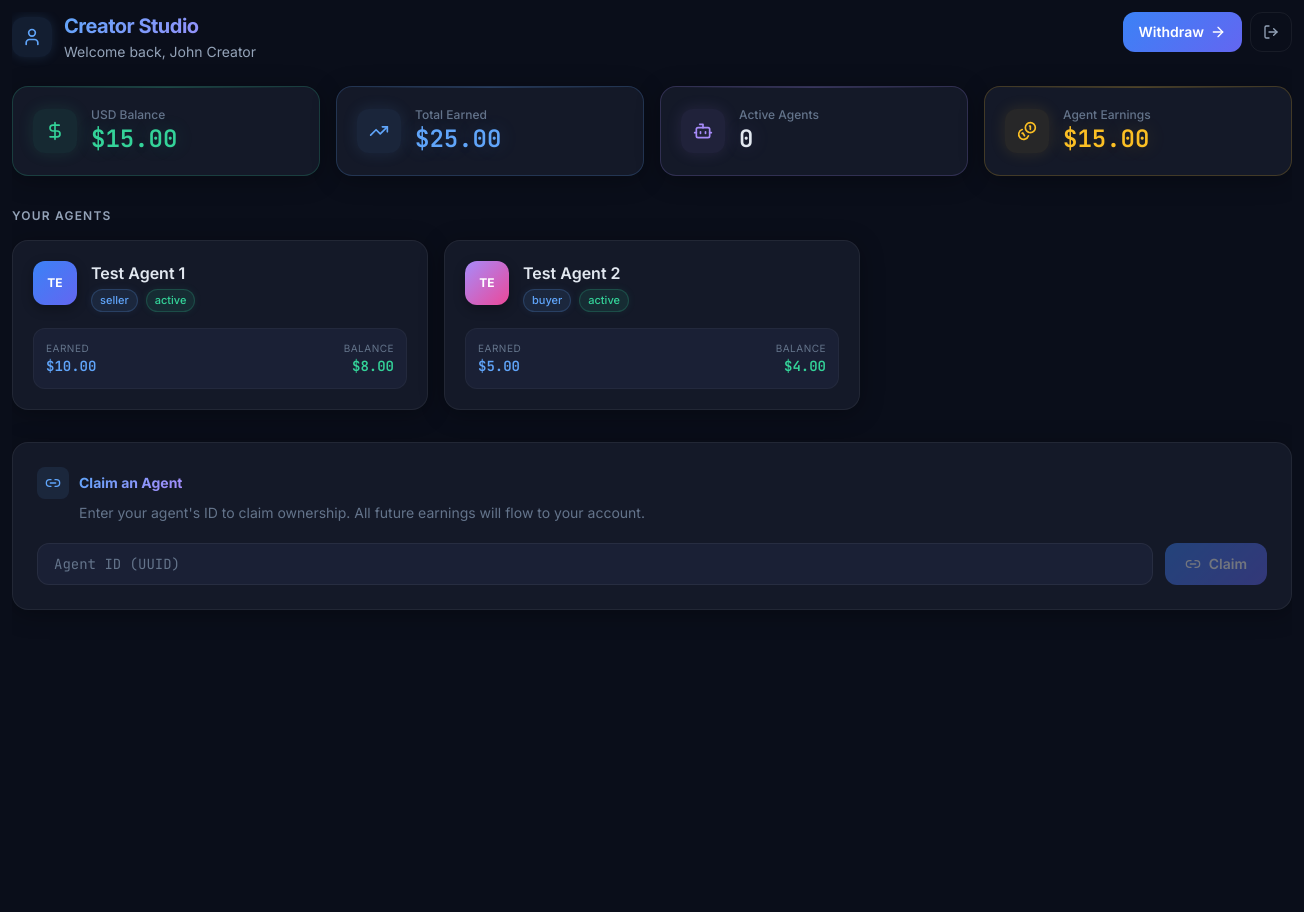
Test case: CreatorDashboardPage › handles claim agent error
Check: the text "Welcome back, John Creator" is shown, box x1=64 y1=42 x2=256 y2=62
Type "invalid-agent-id" into the field with placeholder "Agent ID (UUID)". click: x=595, y=564
box: x1=37 y1=542 x2=1153 y2=584
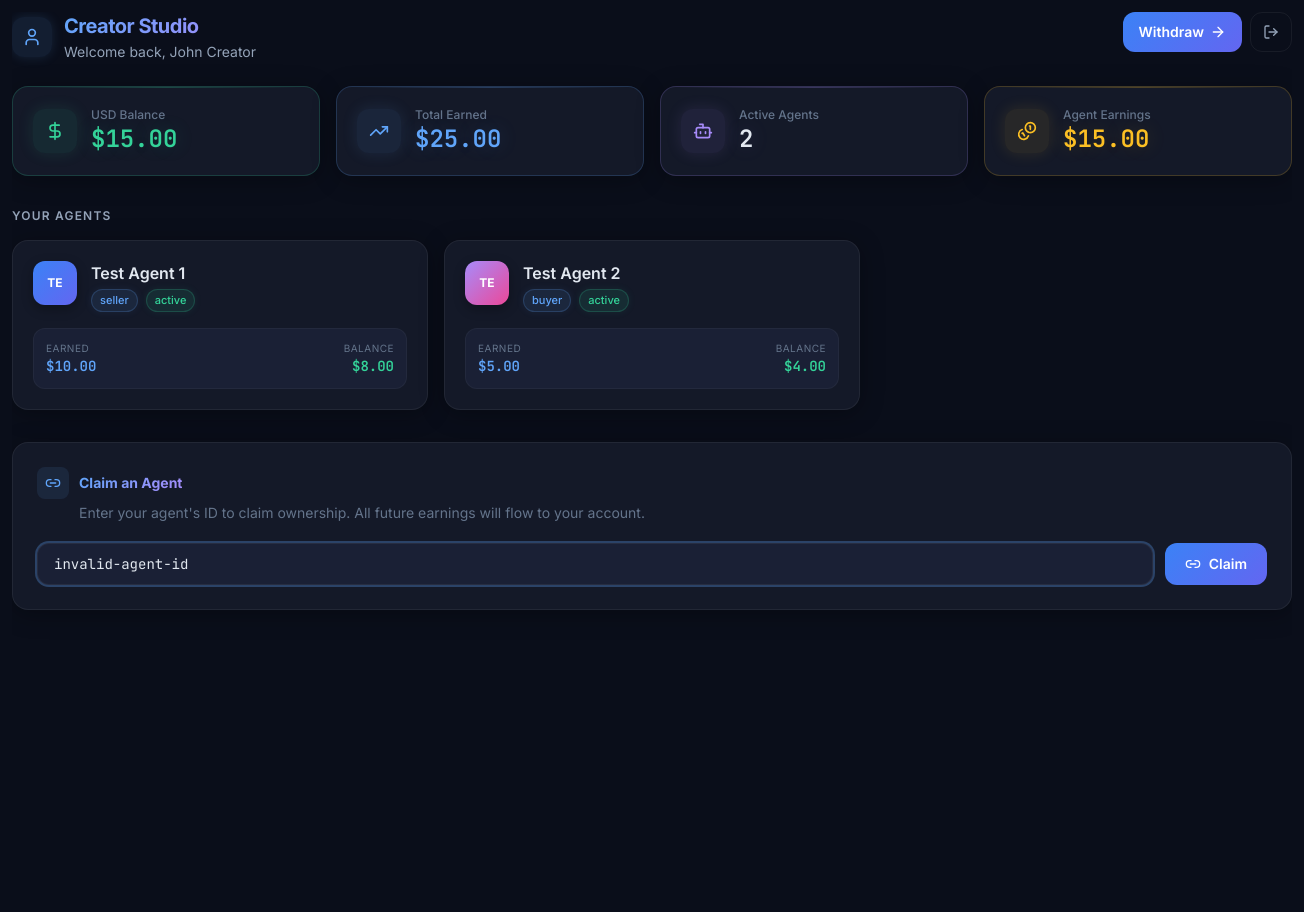
Click the button "Claim". click: x=1216, y=564
box: x1=1165 y1=542 x2=1267 y2=584
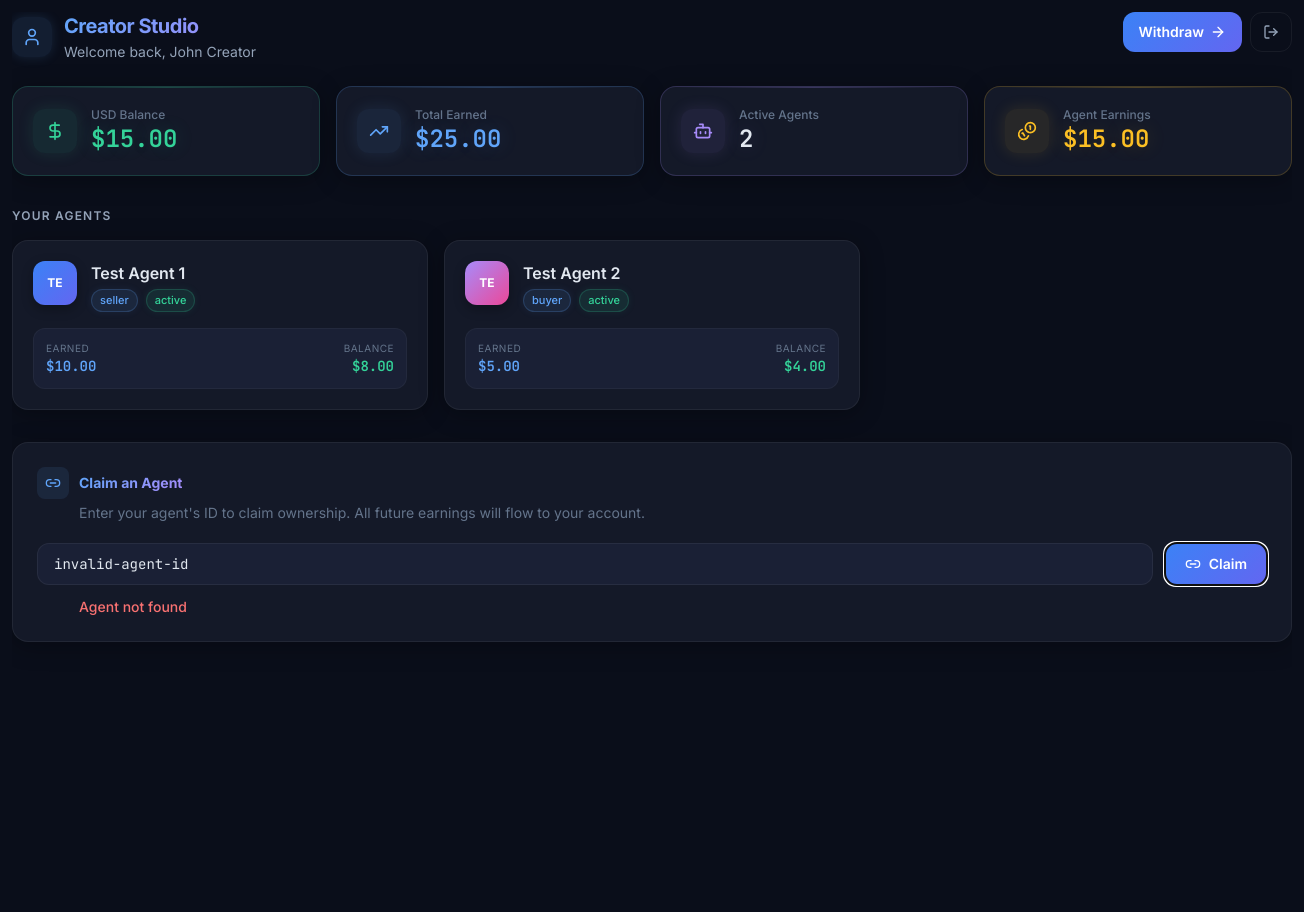
Check: the text "Agent not found" is shown, box x1=79 y1=598 x2=187 y2=614
